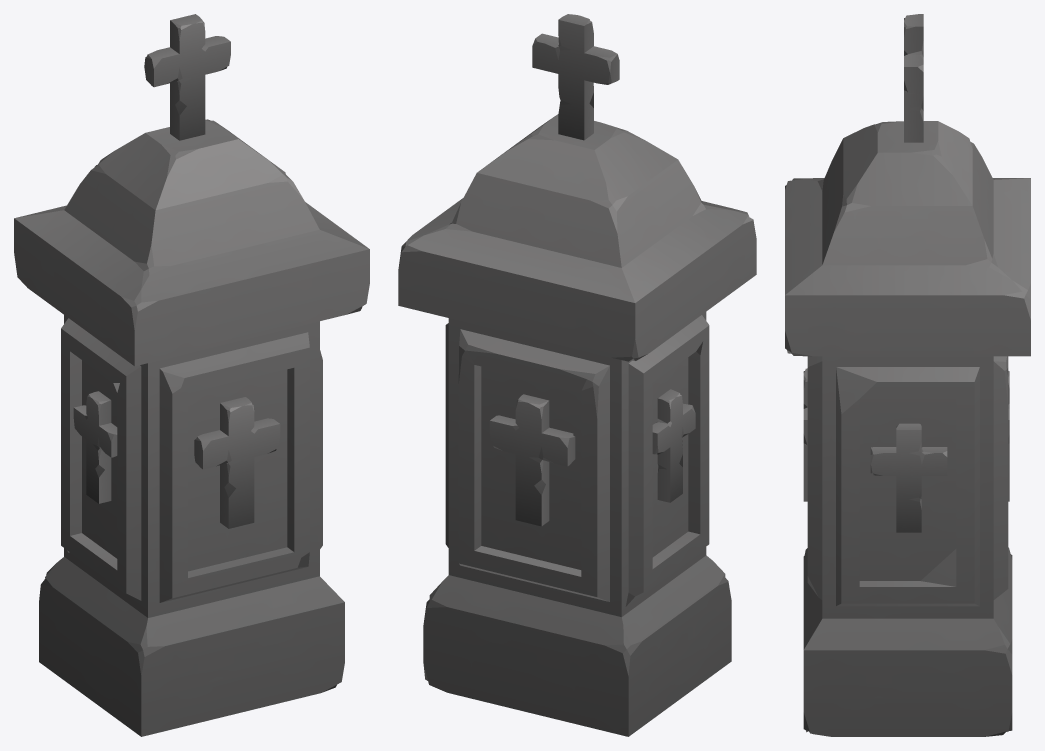
Rendered from Pillar.fbx.
3 renders of one model, left to right at view 1: azimuth 30°, elevation 25°; view 2: azimuth 150°, elevation 25°; view 3: azimuth 270°, elevation 25°, orthographic.
Parts seen in each view (by area): view 1: Cube.015, Plane.051, Plane.055, Plane.054; view 2: Cube.015, Plane.052, Plane.055, Plane.054; view 3: Cube.015, Plane.053, Plane.055, Plane.051.
Part boxes in pixels (x1,y1,x2,y2): Cube.015: [14, 119, 369, 736]; Plane.051: [194, 397, 280, 528]; Plane.055: [144, 14, 230, 140]; Plane.054: [73, 391, 117, 503]; Cube.015: [398, 114, 756, 736]; Plane.052: [489, 394, 575, 526]; Plane.055: [532, 14, 619, 140]; Plane.054: [652, 389, 695, 502]; Cube.015: [785, 121, 1030, 736]; Plane.053: [870, 423, 947, 532]; Plane.055: [904, 14, 923, 142]; Plane.051: [803, 368, 807, 501].
Bounding box in the file's own units: 110 × 291 × 97.49.
Materials: 1 (1 with a texture image).
